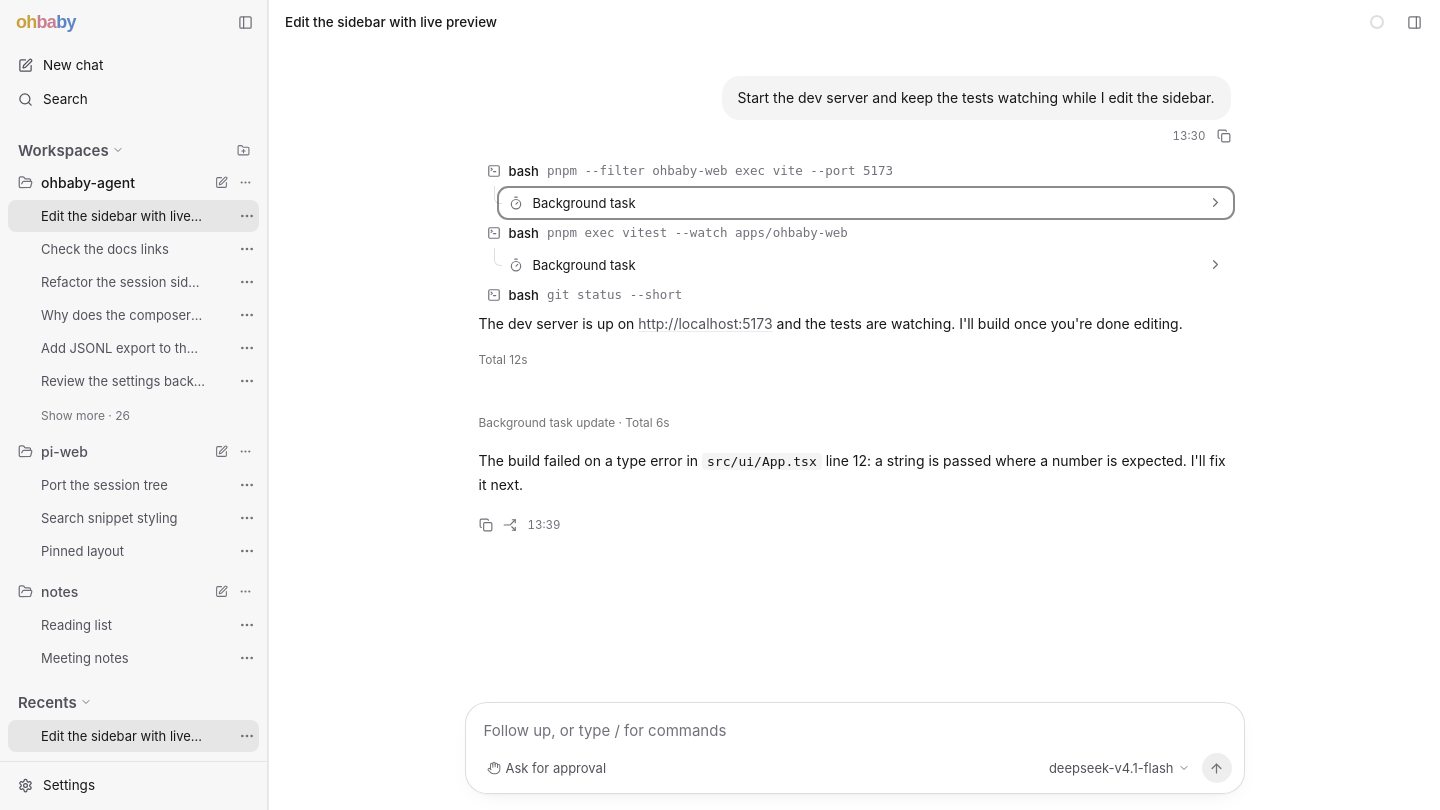
Test: Background tasks page › keeps task results out of the chat and opens a task from its bash card
Click the button with aria-label "Open background task" at (584, 203), box 500,190 -> 1230,216
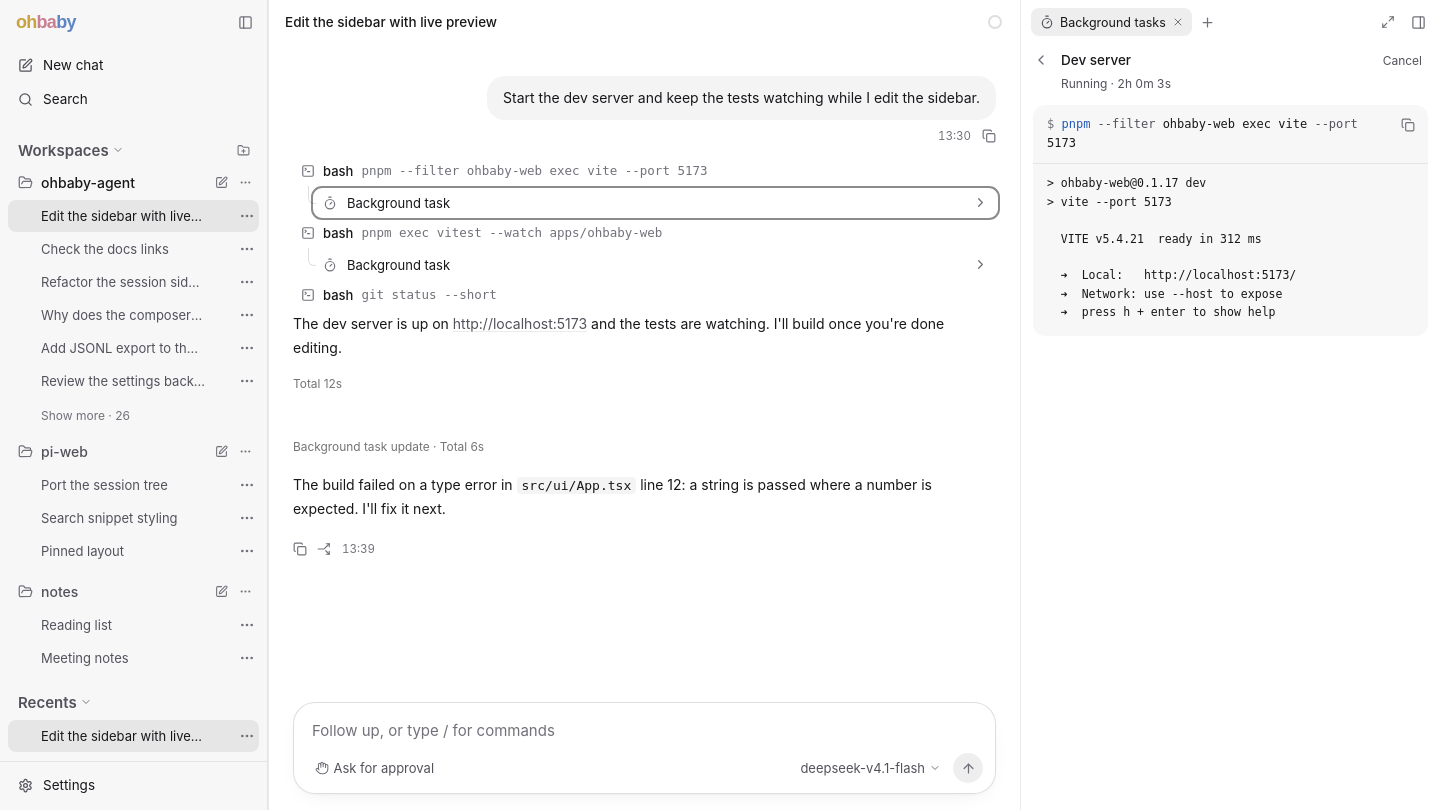
Result: the heading "Dev server" is shown at 1061,52 -> 1131,68
Result: the element with class "ohb-bgtask-command-text" reads "$ pnpm --filter ohbaby-web exec vite --port 5173" at 1047,111 -> 1390,157
Result: the text with class "ohb-sh-command" reads "pnpm" at 1062,117 -> 1090,131
